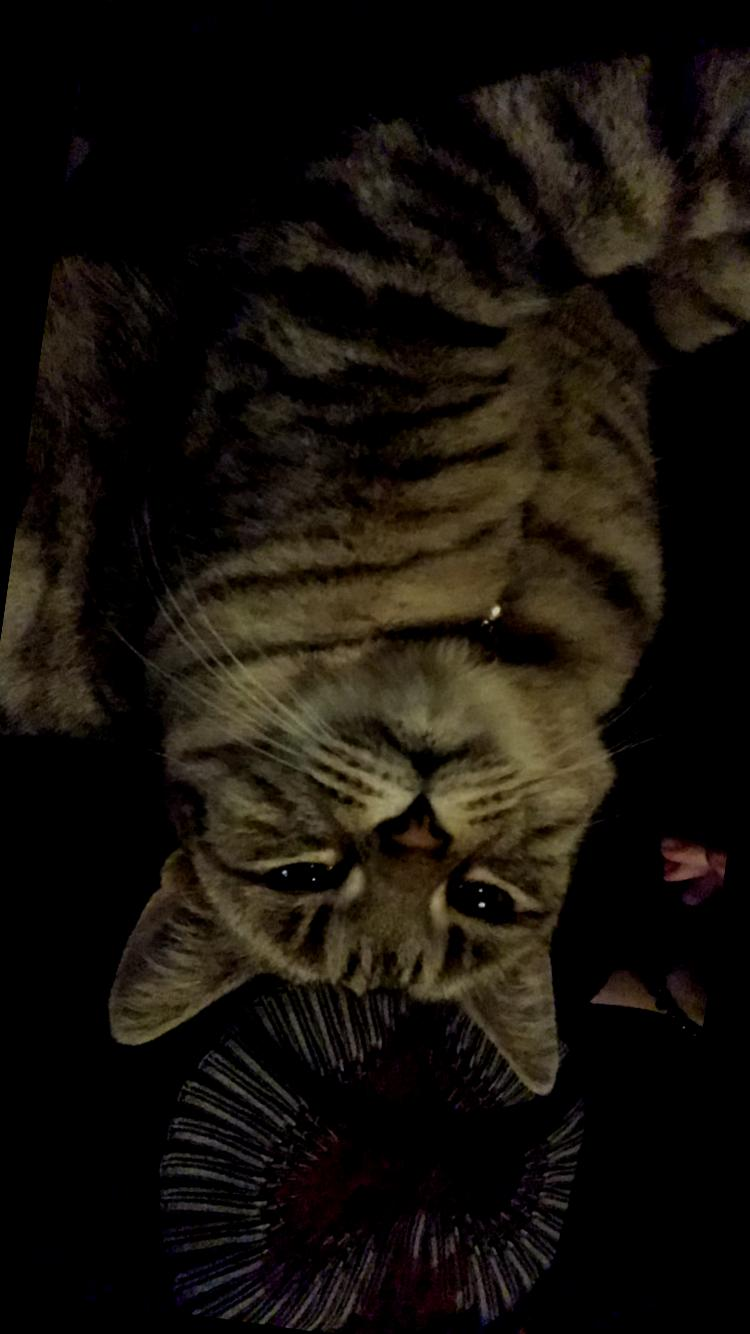macka: (0, 0, 750, 1123)
